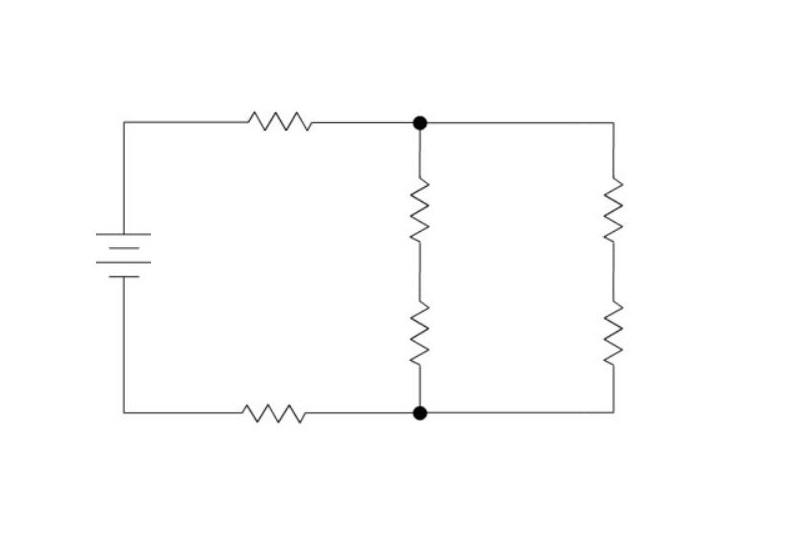resistor: (386, 266, 460, 378), (383, 157, 458, 266), (562, 153, 641, 248), (574, 280, 655, 370), (220, 376, 331, 441), (230, 88, 330, 153)
